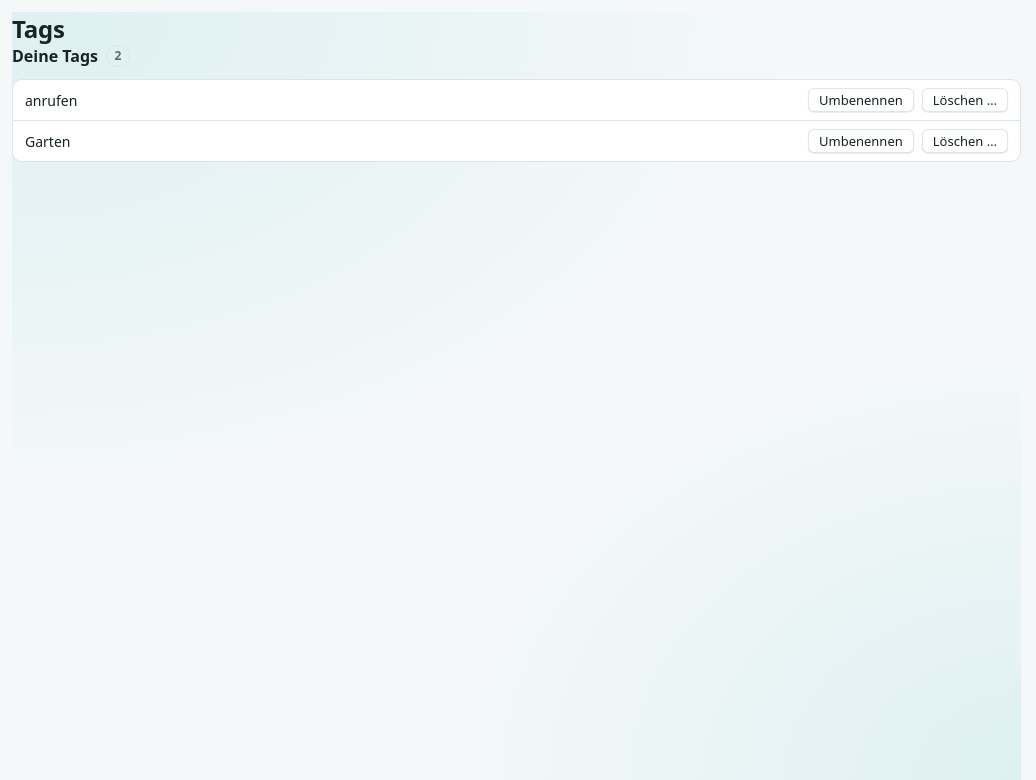
Test: tag manager › shows a conflict at the field and keeps it open
The width and height of the screenshot is (1036, 780).
Click the button with aria-label "Tag „Garten“ umbenennen" at (861, 141), box [808,129,914,153]
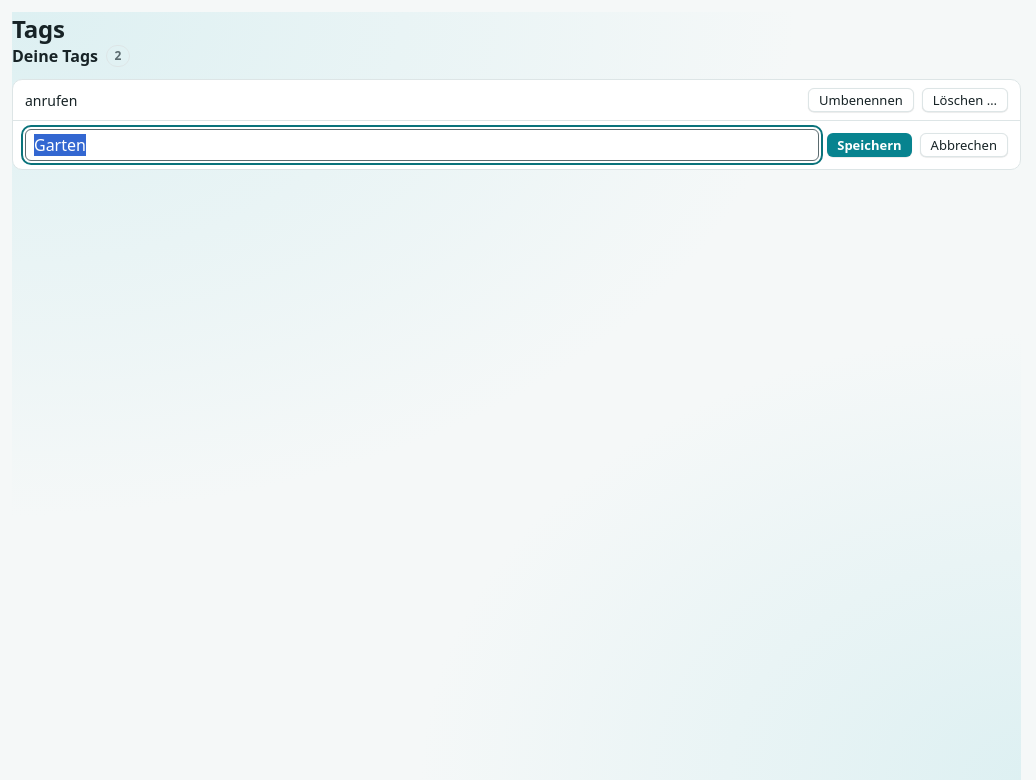
Replace the text in the field with "Anrufen" at (422, 145), box [25,129,819,161]
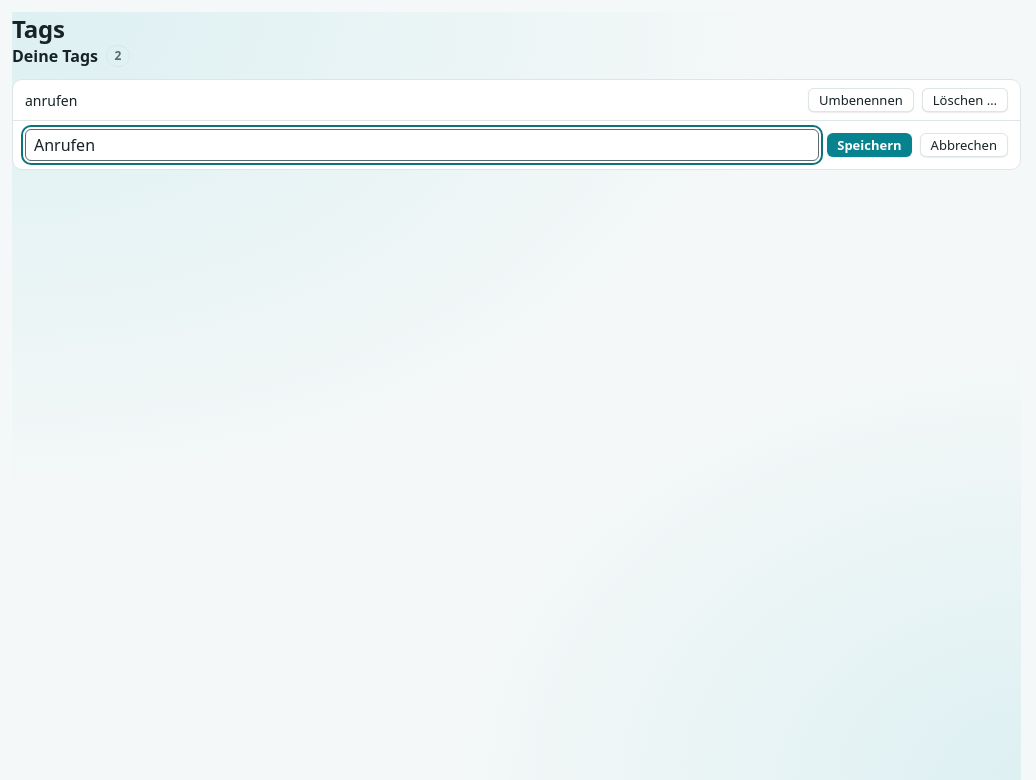
Submit the form, box [25,129,1008,161]
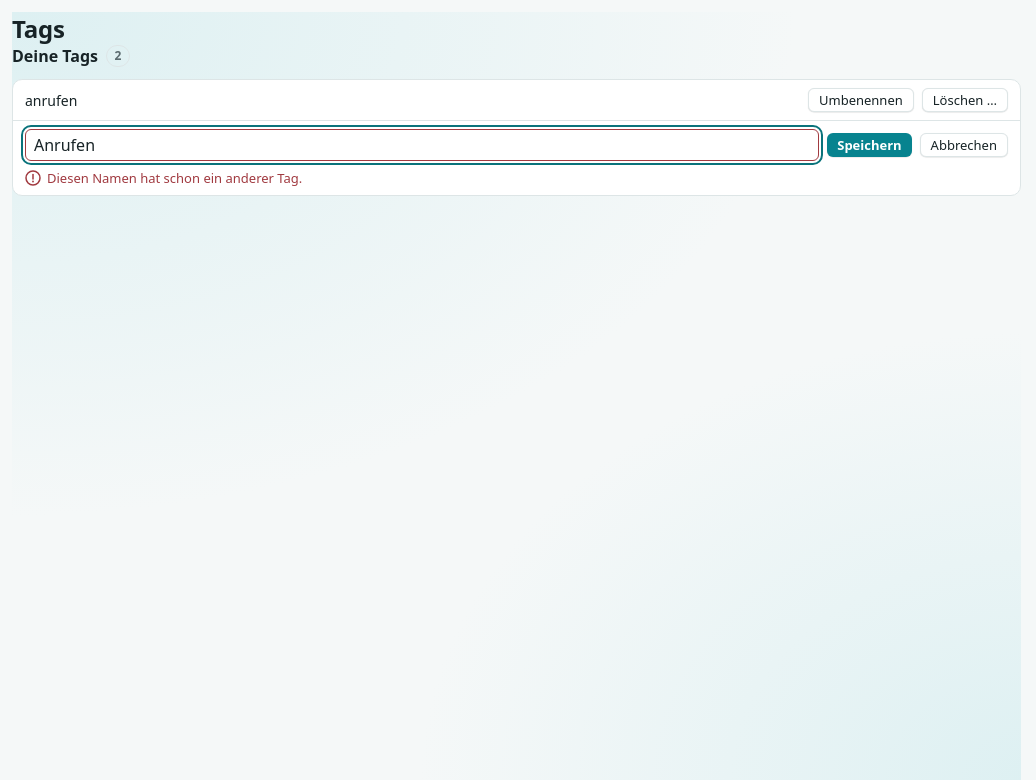
expect the element showing "Diesen Namen hat schon ein anderer Tag." is shown: met, box [25,169,302,187]
